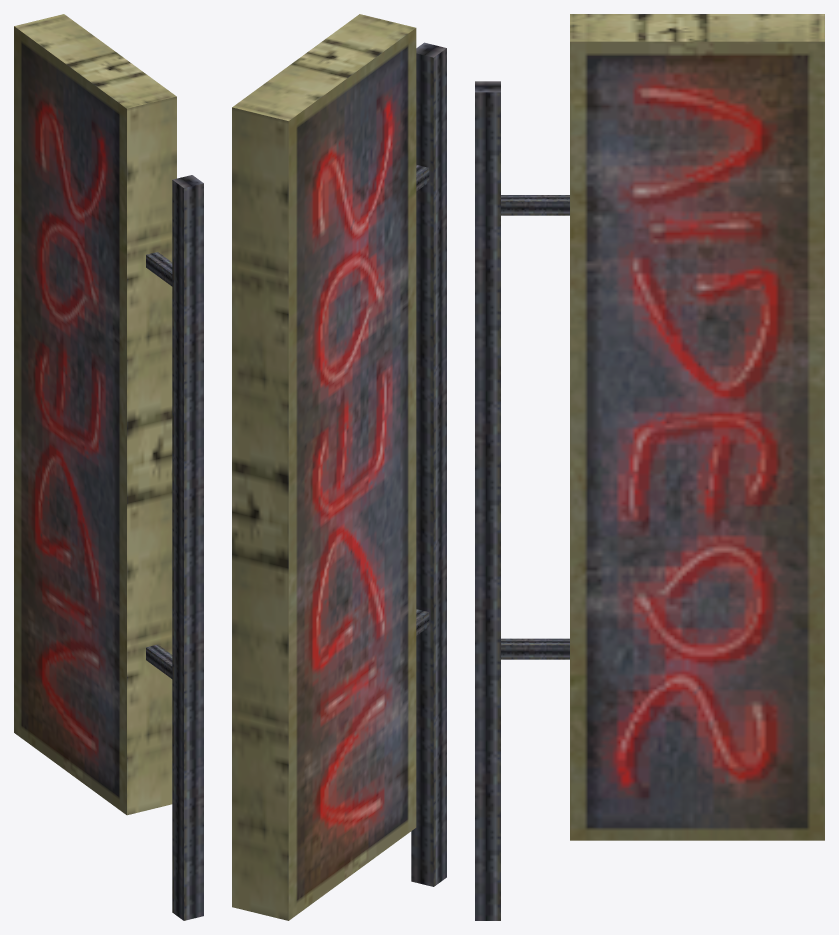
Rendered from neonvideos1.fbx.
The picture shows the model from 3 angles, left to right: view 1: azimuth 30°, elevation 25°; view 2: azimuth 150°, elevation 25°; view 3: azimuth 270°, elevation 25°; orthographic projection. The views are drawn at different scales.
Visible parts, largest first — view 1: mesh_0; view 2: mesh_0; view 3: mesh_0.
Part boxes in pixels (x1=…): mesh_0: x1=14, y1=14, x2=203, y2=920; mesh_0: x1=232, y1=14, x2=446, y2=920; mesh_0: x1=475, y1=14, x2=824, y2=920.
Bounding box in the file's own units: 20 × 300 × 107.
1 material, 1 textured.
